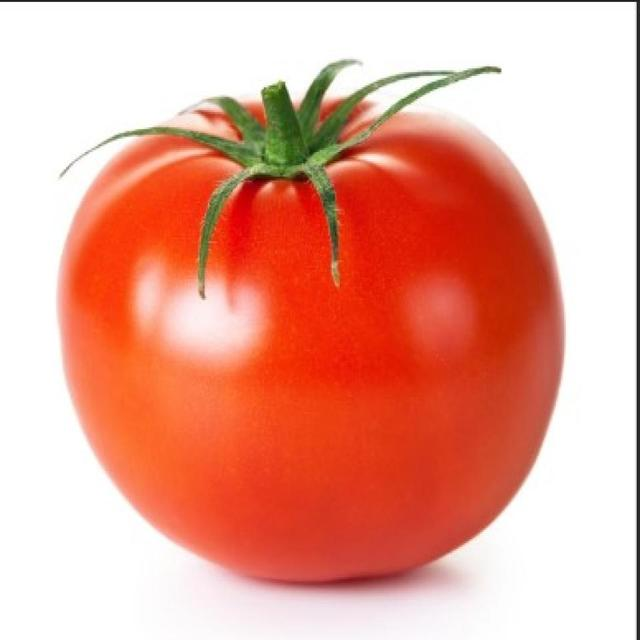Healthy Fruit: (38, 51, 386, 390)
